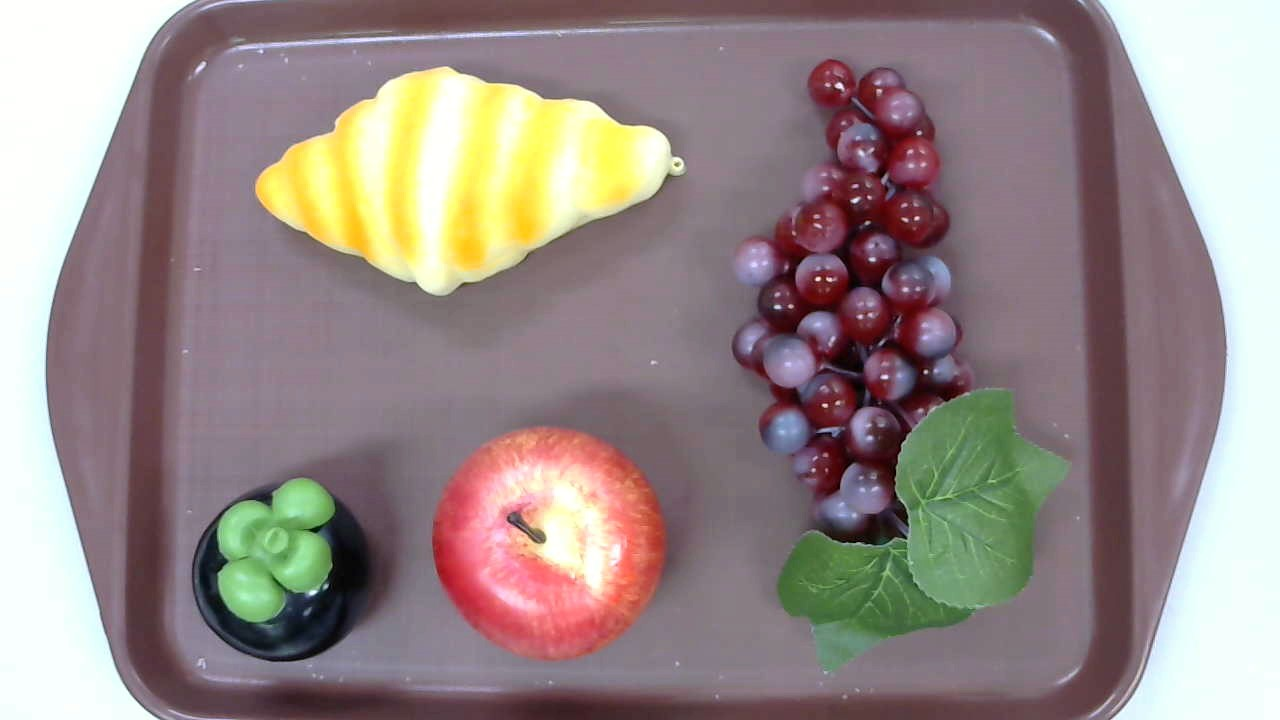croissant: (253, 66, 686, 297)
grape: (730, 59, 1072, 673)
mangosteen: (191, 475, 375, 663)
red apple: (431, 425, 668, 662)
